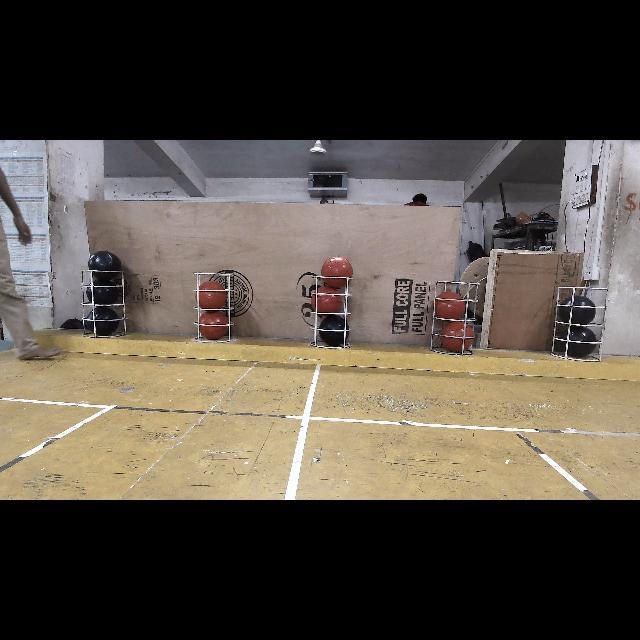P: (561, 327, 597, 359), (560, 296, 596, 326), (320, 316, 350, 348), (88, 306, 120, 336), (90, 251, 120, 279), (87, 280, 119, 306)
R: (198, 312, 232, 342), (442, 321, 474, 351), (434, 292, 466, 320), (197, 282, 227, 310), (324, 256, 352, 286), (314, 288, 342, 314)
S: (426, 278, 480, 358), (549, 280, 603, 360), (308, 272, 356, 352), (78, 266, 128, 336), (194, 272, 236, 341)
